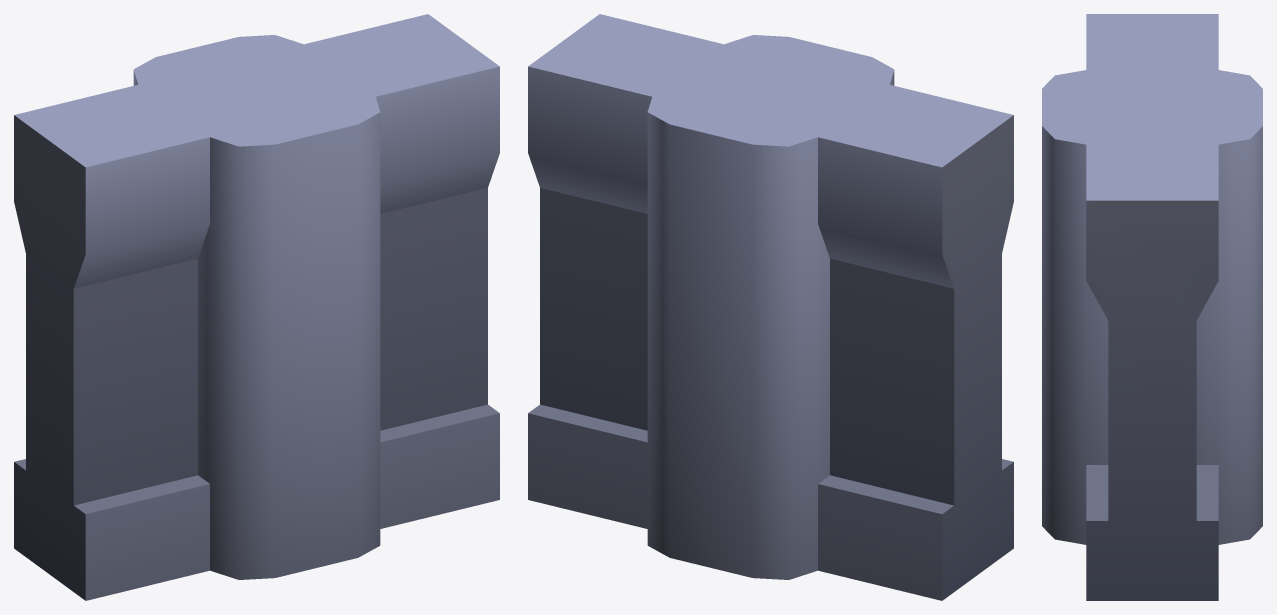
Rendered from wall-pillar.glb.
3 renders of one model, left to right at view 1: azimuth 30°, elevation 25°; view 2: azimuth 150°, elevation 25°; view 3: azimuth 270°, elevation 25°, orthographic. The views are drawn at different scales.
Visible parts, largest first — view 1: wall-pillar; view 2: wall-pillar; view 3: wall-pillar.
Part boxes in pixels (<box>): wall-pillar: <box>14,14,499,600</box>; wall-pillar: <box>528,14,1013,600</box>; wall-pillar: <box>1042,14,1262,600</box>.
Bounding box in the file's own units: 1 × 1 × 0.5001.
